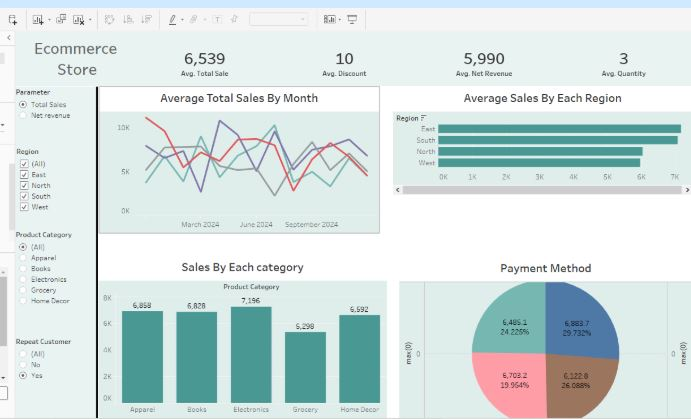

This screenshot's page, from the dashboard's own definition file:
{"tool":"tableau","page":{"name":"Dashboard 1","canvas":[1200,700],"ordinal":0},"visuals":[{"type":"text","box":[0,0,213,98]},{"type":"worksheet","title":"summary","mark":"Automatic","box":[211,0,988,98]},{"type":"parameter","param":"[Parameters].[Parameter 1]","box":[1,100,141,62]},{"type":"worksheet","title":"Average sales by Month","mark":"Automatic","rows":["Calculation_500462534295519232"],"cols":["Transaction_Date"],"box":[149,100,494,257]},{"type":"worksheet","title":"Average sale by each region","mark":"Automatic","rows":["Region"],"cols":["Total_Sale"],"box":[668,100,529,258]},{"type":"filter","title":"Average sale by each region","param":"[federated.1bwh6pa0edv37g1do9b9k0qr1j8c].[none:Region:nk]","box":[2,205,140,127]},{"type":"filter","title":"Average sale by each region","param":"[federated.1bwh6pa0edv37g1do9b9k0qr1j8c].[none:Product_Category:nk]","box":[1,352,142,163]},{"type":"worksheet","title":"Sales by each product","mark":"Automatic","rows":["Total_Sale"],"cols":["Product_Category"],"box":[147,399,510,299]},{"type":"worksheet","title":"Payment cahart","mark":"Pie","rows":["Calculation_633037248382640135","Calculation_633037248382677001"],"box":[679,401,518,298]},{"type":"filter","title":"Average sales by Month","param":"[federated.1bwh6pa0edv37g1do9b9k0qr1j8c].[none:Repeat_Customer:nk]","box":[1,541,140,97]}]}

Visuals, with their boxes on the page's 1200x700 design canvas (x1, y1, x2, y2). These are canvas units, not pixel positions in the 691x419 screenshot, which may show the page scaled, cropped or inside an application window:
text: 0:0:213:98
"summary" worksheet: 211:0:1199:98
parameter: 1:100:142:162
"Average sales by Month" worksheet: 149:100:643:357
"Average sale by each region" worksheet: 668:100:1197:358
"Average sale by each region" filter: 2:205:142:332
"Average sale by each region" filter: 1:352:143:515
"Sales by each product" worksheet: 147:399:657:698
"Payment cahart" worksheet (Pie marks): 679:401:1197:699
"Average sales by Month" filter: 1:541:141:638
